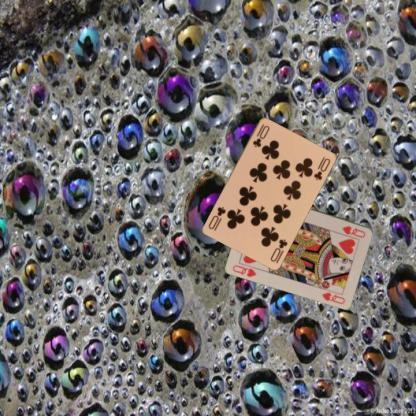10c: (267, 236, 289, 263), (250, 122, 271, 148)
Qh: (230, 262, 258, 278), (340, 223, 367, 239)
